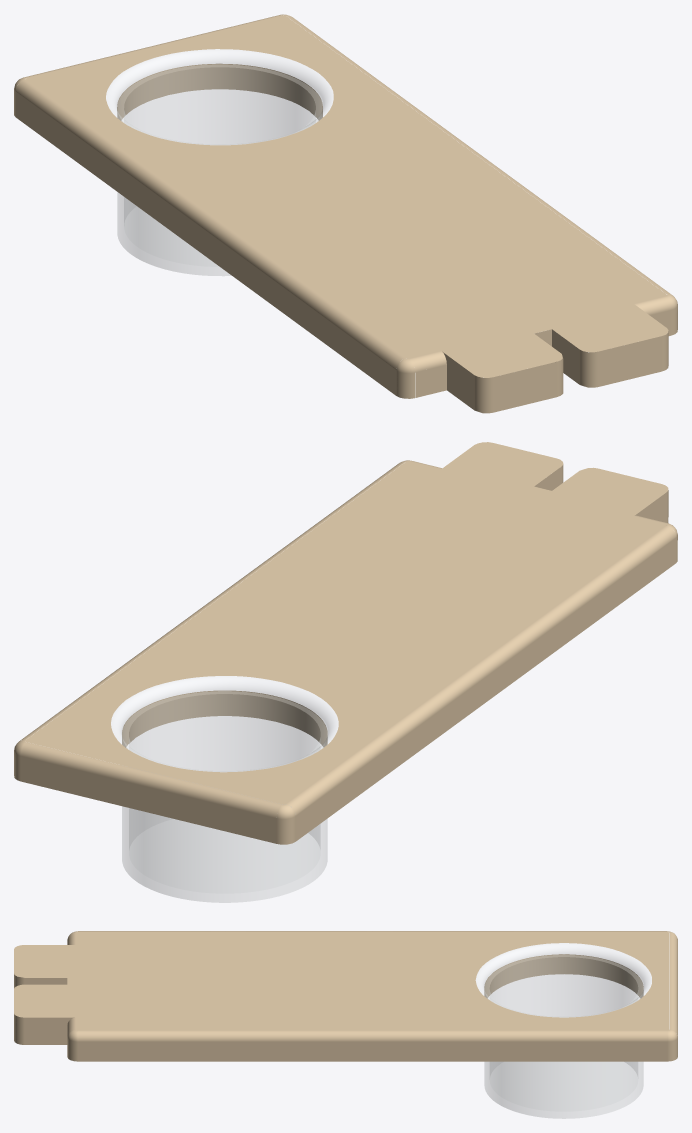
The model's file is ergoflex-side-cup-holder.glb.
3 renders of one model, top to bottom at view 1: azimuth 30°, elevation 25°; view 2: azimuth 150°, elevation 25°; view 3: azimuth 270°, elevation 25°, orthographic. The views are drawn at different scales.
Visible parts, largest first — view 1: Side shelf wood, Side shelf acrylic; view 2: Side shelf wood, Side shelf acrylic; view 3: Side shelf wood, Side shelf acrylic.
Part boxes in pixels (x1,y1,x2,y2): Side shelf wood: [14, 14, 677, 413]; Side shelf acrylic: [106, 49, 333, 275]; Side shelf wood: [14, 442, 677, 844]; Side shelf acrylic: [111, 676, 338, 902]; Side shelf wood: [14, 931, 677, 1061]; Side shelf acrylic: [476, 943, 651, 1118].
Bounding box in the file's own units: 0.1489 × 0.0689 × 0.395.
